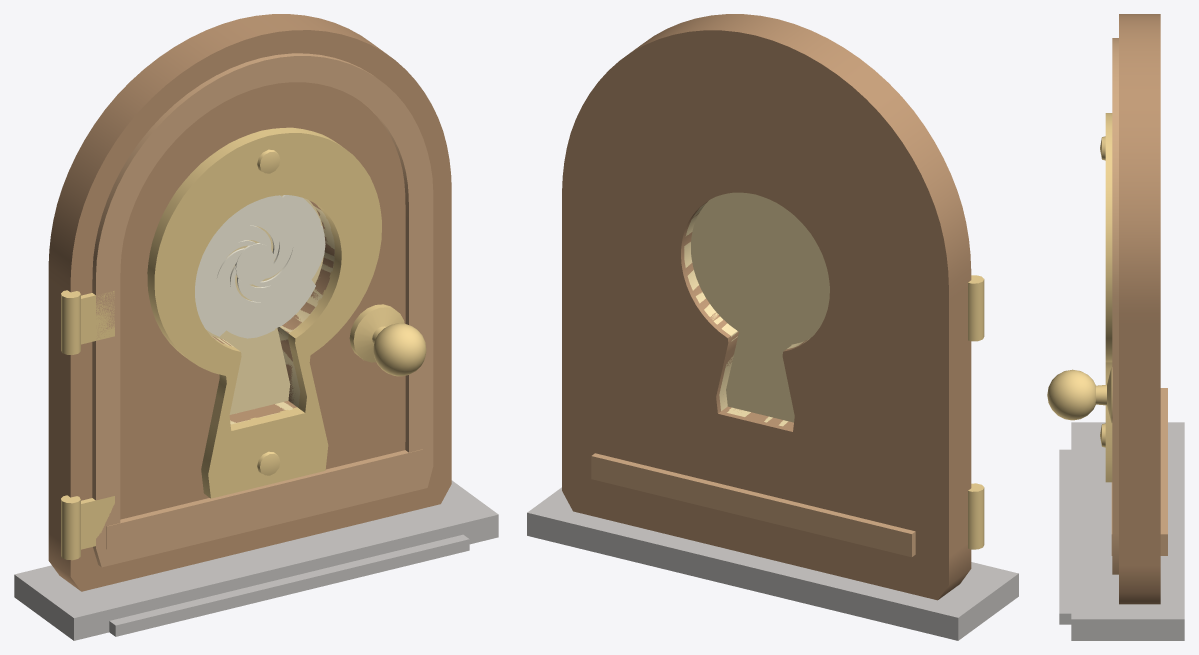
Rendered from KeyholePortal.fbx.
3 renders of one model, left to right at view 1: azimuth 30°, elevation 25°; view 2: azimuth 150°, elevation 25°; view 3: azimuth 270°, elevation 25°, orthographic. The views are drawn at different scales.
Visible parts, largest first — view 1: KeyholeDoor, KeyholeTrim, KeyholePlate, KeyholeBase, PortalSwirl, KeyholeKnob, PortalVortex, KeyholeGlow, KeyholeScrews; view 2: KeyholeDoor, PortalVortex, KeyholeBase, KeyholeTrim, KeyholeKnob, KeyholeGlow; view 3: KeyholeDoor, KeyholeBase, KeyholeTrim, KeyholePlate, KeyholeKnob, KeyholeScrews.
Boxes of the visible parts, bbox=[...] form: KeyholeDoor: bbox=[48, 14, 451, 591]; KeyholeTrim: bbox=[92, 53, 433, 567]; KeyholePlate: bbox=[147, 127, 381, 498]; KeyholeBase: bbox=[14, 480, 498, 640]; PortalSwirl: bbox=[195, 195, 325, 338]; KeyholeKnob: bbox=[61, 290, 426, 560]; PortalVortex: bbox=[206, 195, 323, 414]; KeyholeGlow: bbox=[211, 206, 334, 424]; KeyholeScrews: bbox=[257, 149, 280, 475]; KeyholeDoor: bbox=[562, 14, 971, 600]; PortalVortex: bbox=[691, 192, 829, 422]; KeyholeBase: bbox=[527, 487, 1018, 640]; KeyholeTrim: bbox=[591, 453, 915, 557]; KeyholeKnob: bbox=[968, 275, 984, 549]; KeyholeGlow: bbox=[684, 202, 809, 426]; KeyholeDoor: bbox=[1119, 14, 1160, 604]; KeyholeBase: bbox=[1059, 422, 1184, 640]; KeyholeTrim: bbox=[1111, 38, 1167, 574]; KeyholePlate: bbox=[1105, 113, 1112, 482]; KeyholeKnob: bbox=[1047, 367, 1112, 423]; KeyholeScrews: bbox=[1100, 136, 1105, 447].
Bounding box in the file's own units: 1560 × 1880 × 460.
